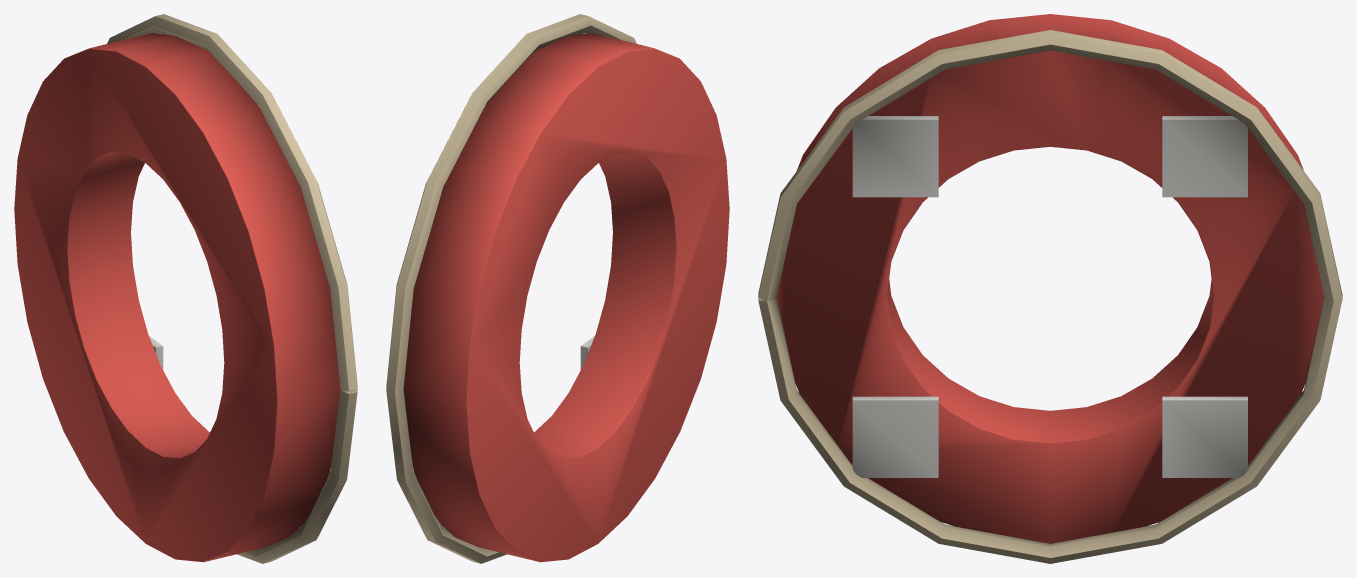
Rendered from lifering.glb.
3 views of the same model, side by side, from view 1: azimuth 30°, elevation 25°; view 2: azimuth 150°, elevation 25°; view 3: azimuth 270°, elevation 25° (orthographic). The views are drawn at different scales.
Parts seen in each view (by area): view 1: boat_ringred, boat_ropec; view 2: boat_ringred, boat_ropec; view 3: boat_ringred, boat_ropec, boat_paint_white.
Part boxes in pixels (<box>): boat_ringred: <box>14,33,340,562</box>; boat_ropec: <box>107,14,357,563</box>; boat_ringred: <box>403,33,729,562</box>; boat_ropec: <box>386,14,636,563</box>; boat_ringred: <box>776,14,1324,543</box>; boat_ropec: <box>758,30,1342,563</box>; boat_paint_white: <box>852,116,1247,477</box>.
Size of the model in its own units: 0.107 by 0.6808 by 0.6806.
